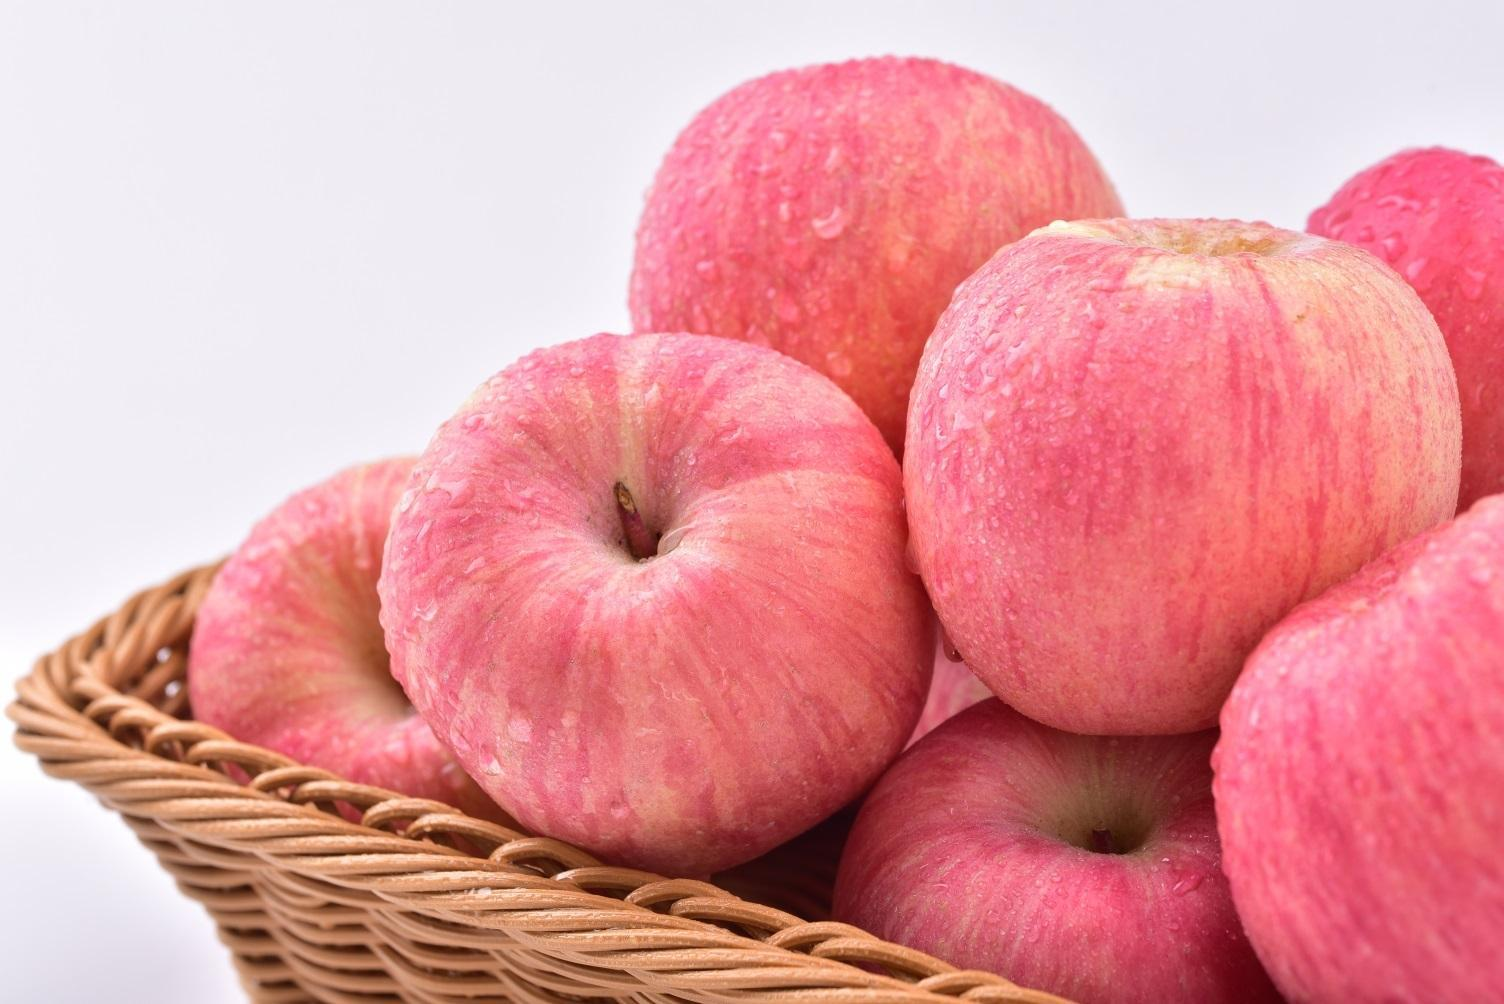apple: (379, 319, 932, 882), (894, 213, 1461, 751), (637, 54, 1117, 450), (1207, 486, 1504, 998), (830, 712, 1292, 998), (195, 456, 459, 803)
